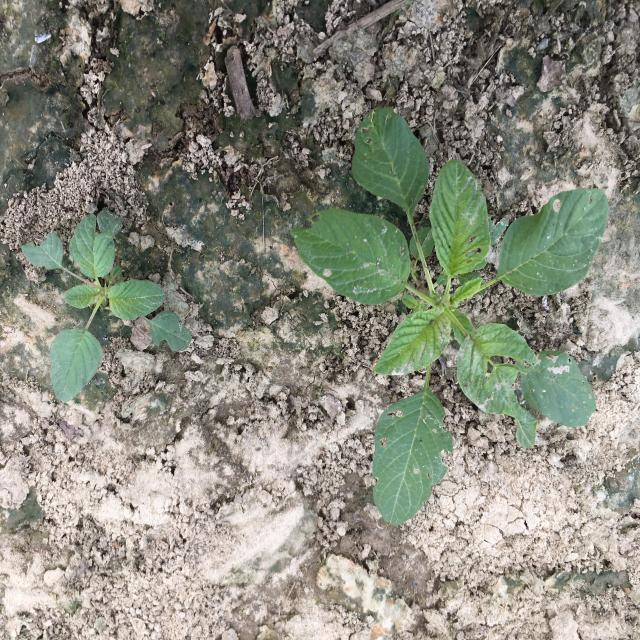PalmerAmaranth: (290, 107, 609, 526), (22, 206, 192, 404)
